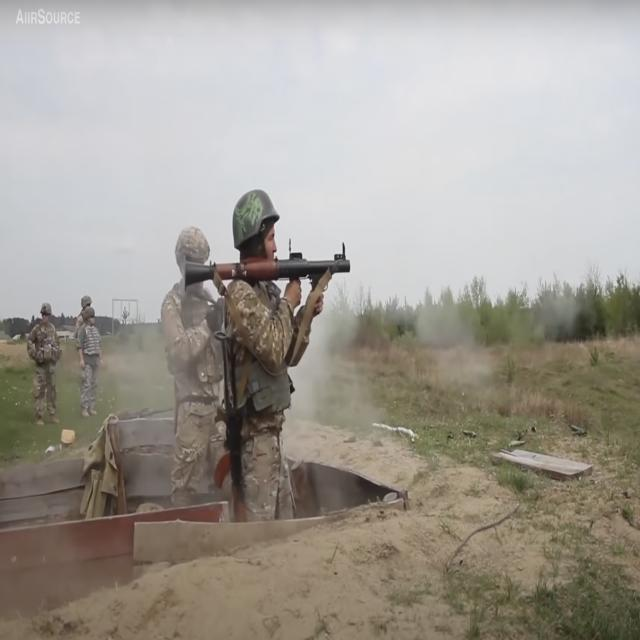bazooka: (184, 240, 356, 301)
